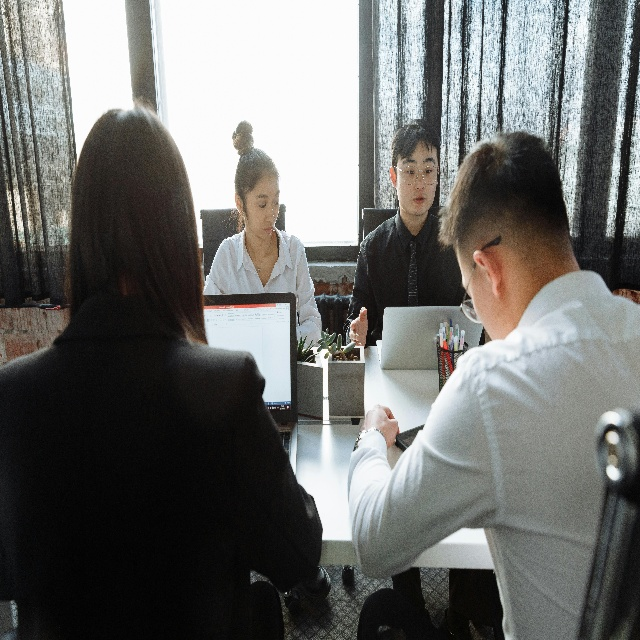Gafas: (460, 235, 500, 324), (394, 165, 439, 186)
Sin_guantes: (358, 403, 400, 450), (349, 306, 368, 349)
